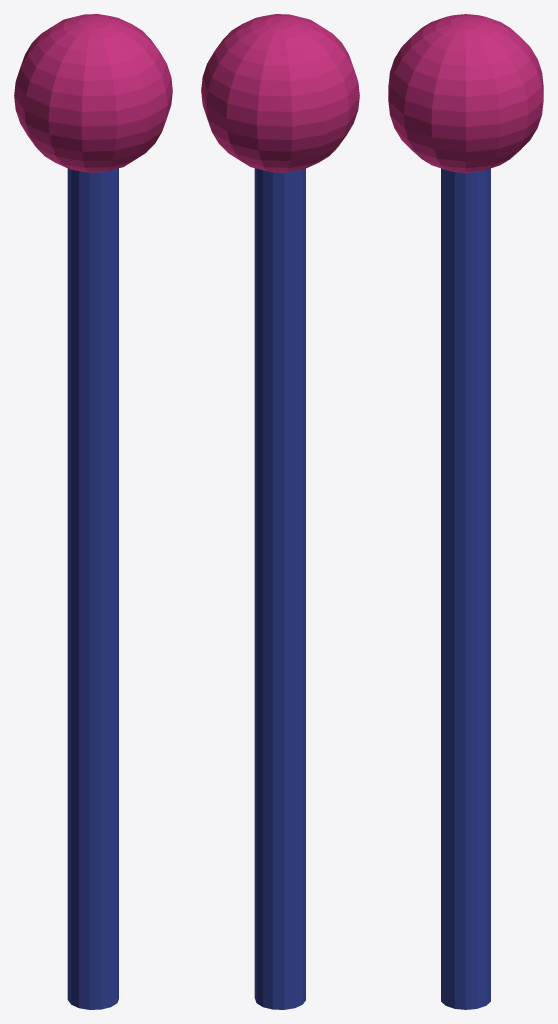
Rendered from Props_Instruments_Mallet.fbx.
3 renders of one model, left to right at view 1: azimuth 30°, elevation 25°; view 2: azimuth 150°, elevation 25°; view 3: azimuth 270°, elevation 25°, orthographic.
Visible parts, largest first — view 1: Props_Instruments_Mallet; view 2: Props_Instruments_Mallet; view 3: Props_Instruments_Mallet.
Part boxes in pixels (x1,y1,x2,y2): Props_Instruments_Mallet: (14, 14, 172, 1009); Props_Instruments_Mallet: (201, 14, 359, 1009); Props_Instruments_Mallet: (388, 14, 543, 1009).
Size of the model in its own units: 0.0888 by 0.6017 by 0.0866.
